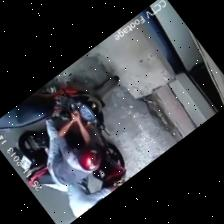person: (44, 111, 101, 185), (44, 177, 121, 217)
